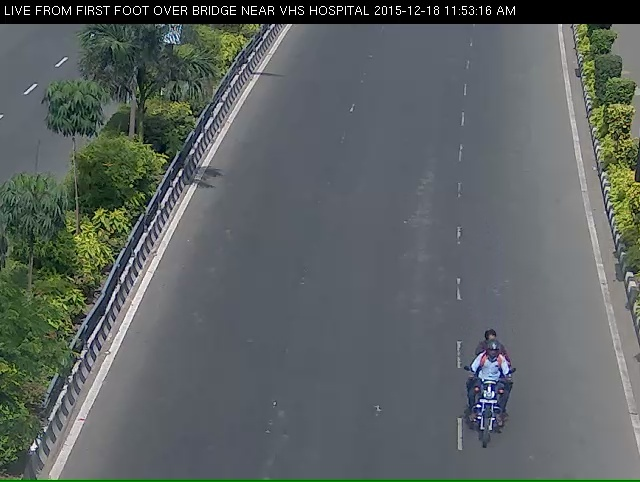Person: (453, 347, 523, 476)
